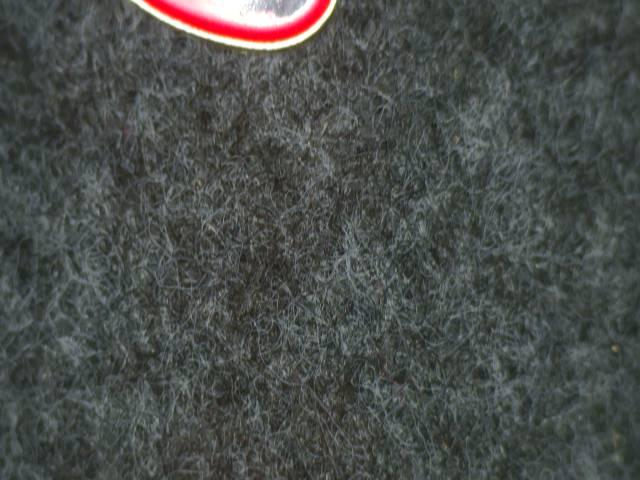Red-Hat: (110, 0, 362, 94)
